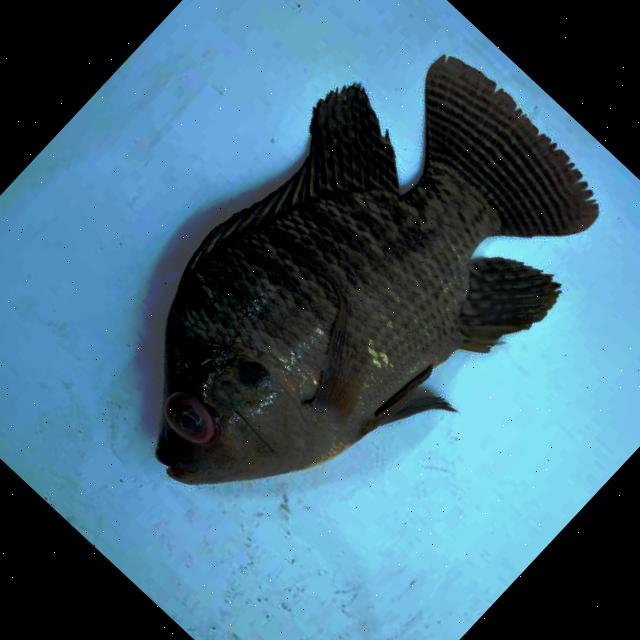Streptococcus: (156, 56, 596, 483), (156, 56, 596, 483)
